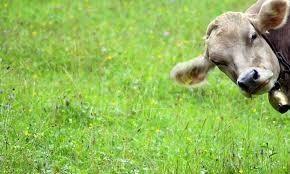cow: (169, 1, 290, 115)
